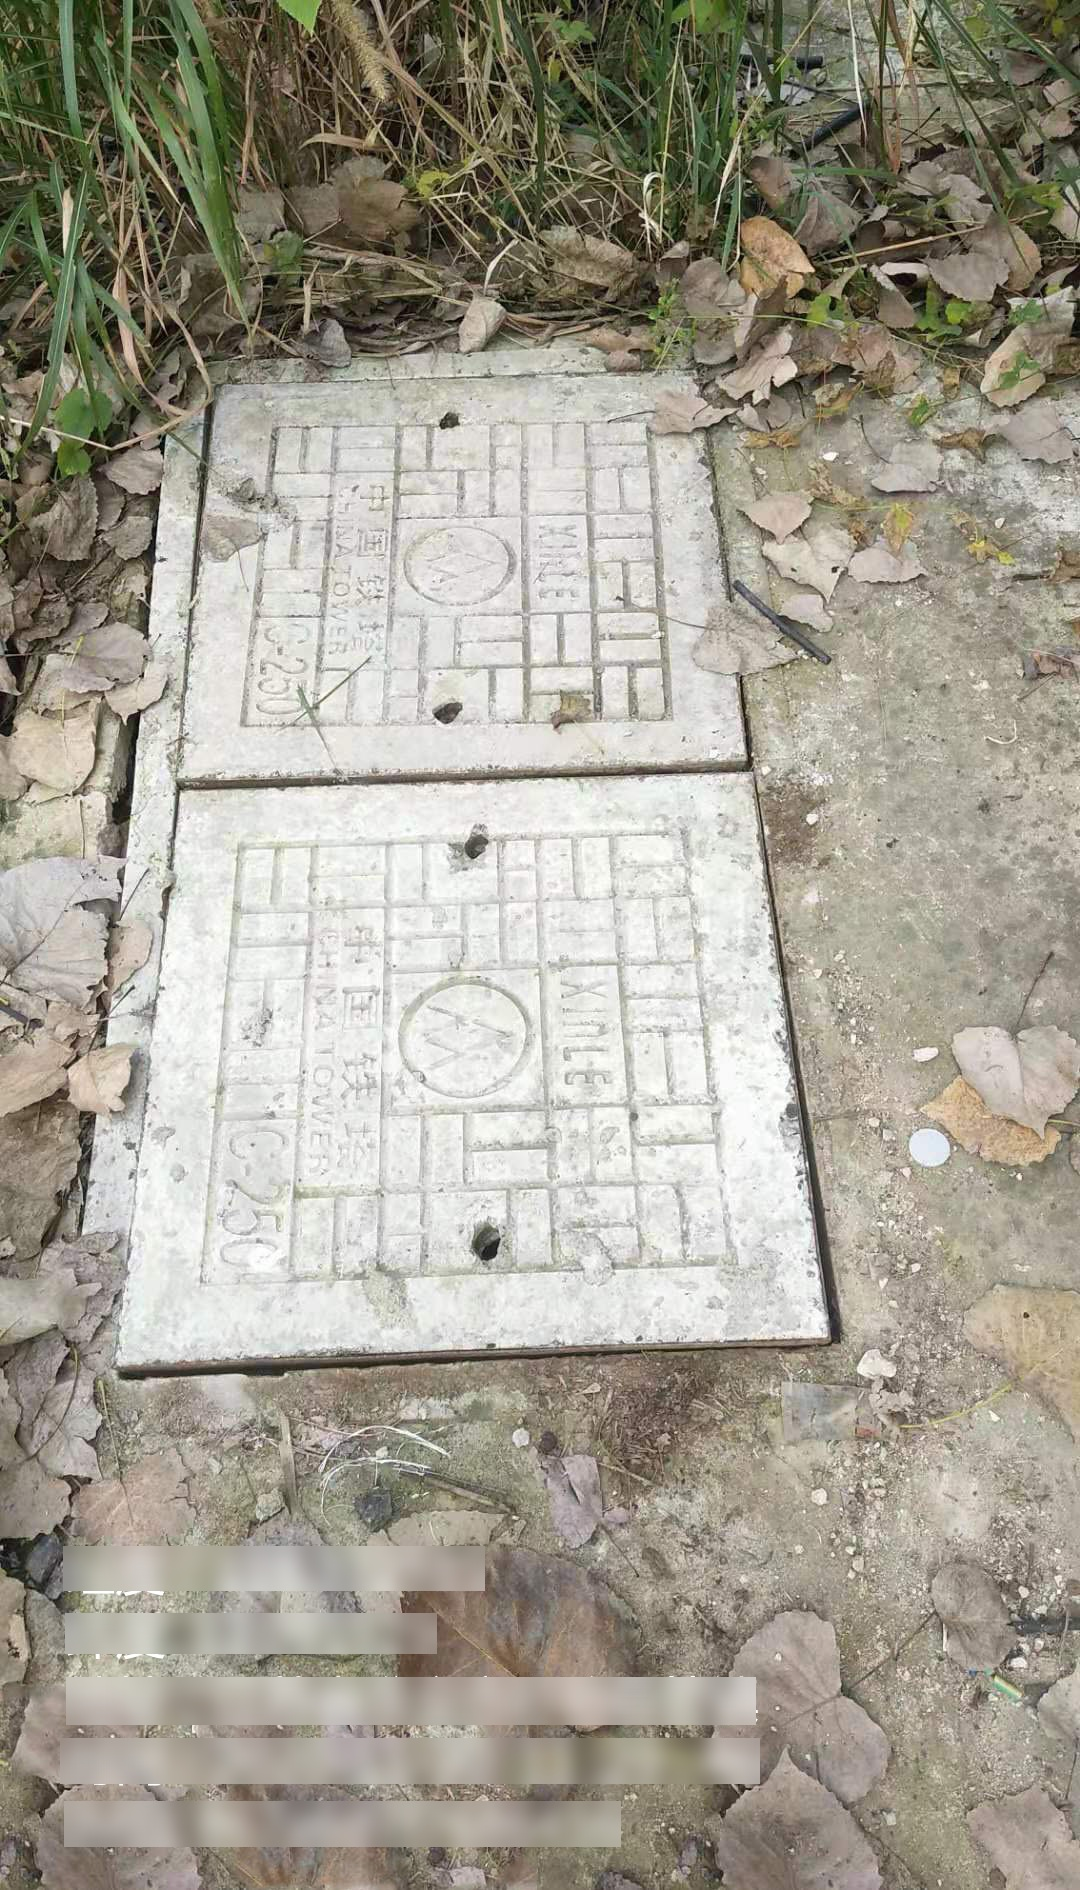good: (104, 348, 848, 1367)
